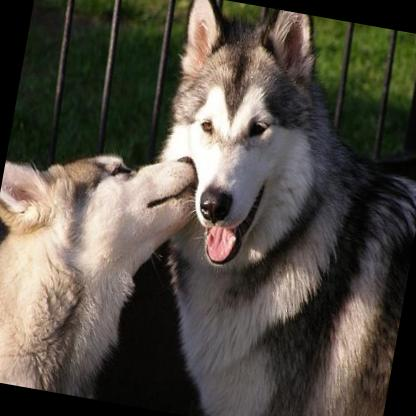malamute: (119, 0, 416, 416), (0, 122, 204, 407)
